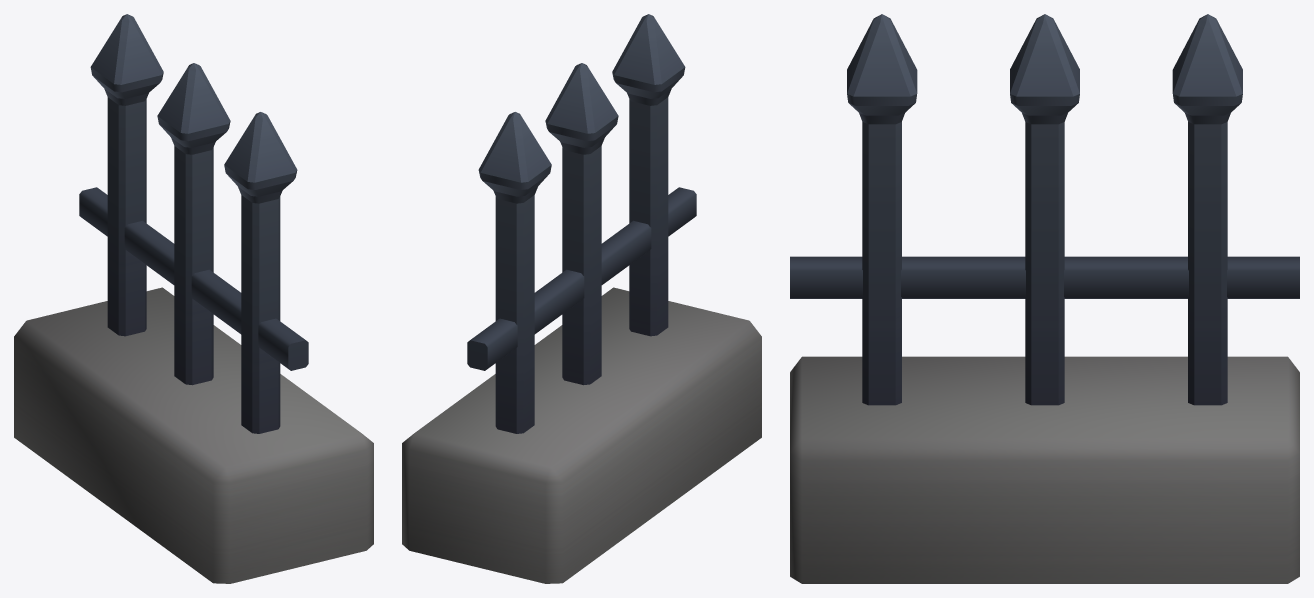
Rendered from Fence_1_1.glb.
3 renders of one model, left to right at view 1: azimuth 30°, elevation 25°; view 2: azimuth 150°, elevation 25°; view 3: azimuth 270°, elevation 25°, orthographic. The views are drawn at different scales.
Visible parts, largest first — view 1: Fence_1_1; view 2: Fence_1_1; view 3: Fence_1_1.
Boxes of the visible parts, <box> form: Fence_1_1: <box>14,14,373,583</box>; Fence_1_1: <box>402,14,761,583</box>; Fence_1_1: <box>790,14,1299,583</box>.
Bounding box in the file's own units: 0.4327 × 1.1 × 0.9745.
2 materials, 2 textured.
